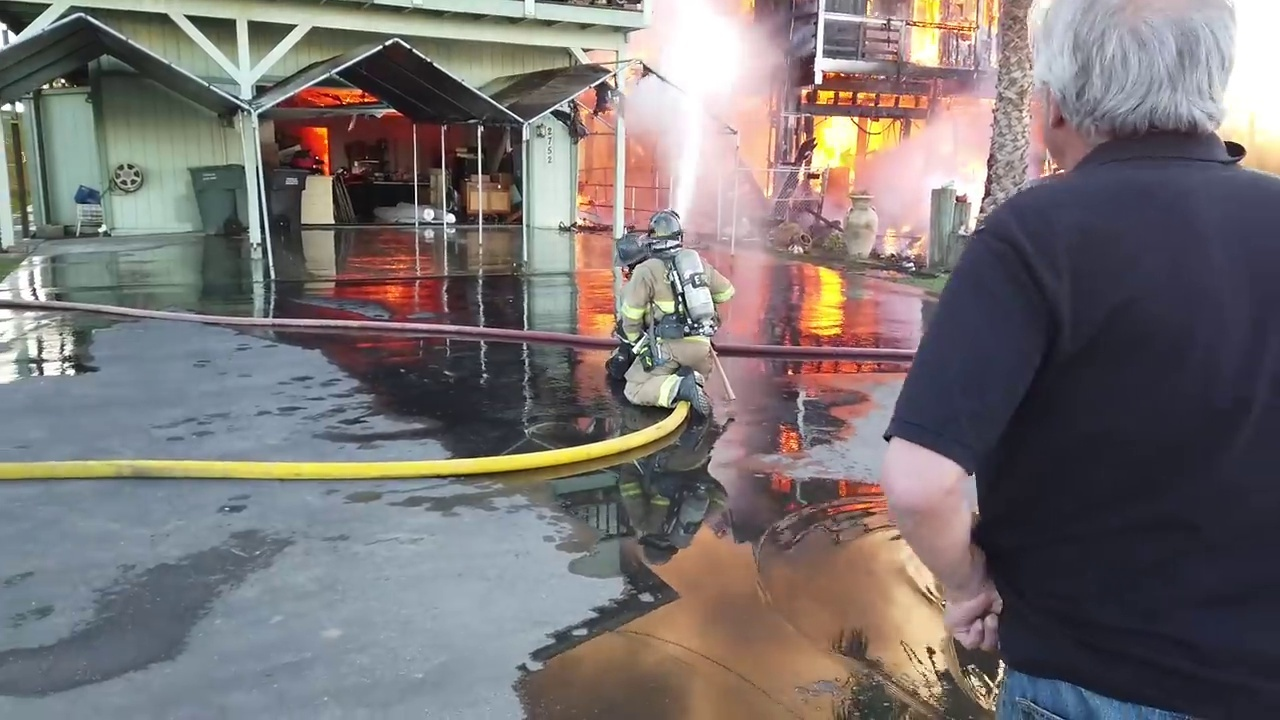fire: (577, 112, 652, 225), (283, 82, 383, 121), (810, 94, 857, 175), (853, 93, 928, 140), (278, 110, 330, 174), (909, 1, 941, 66)
smoke: (1216, 14, 1280, 216), (864, 128, 985, 218), (944, 48, 989, 127)
